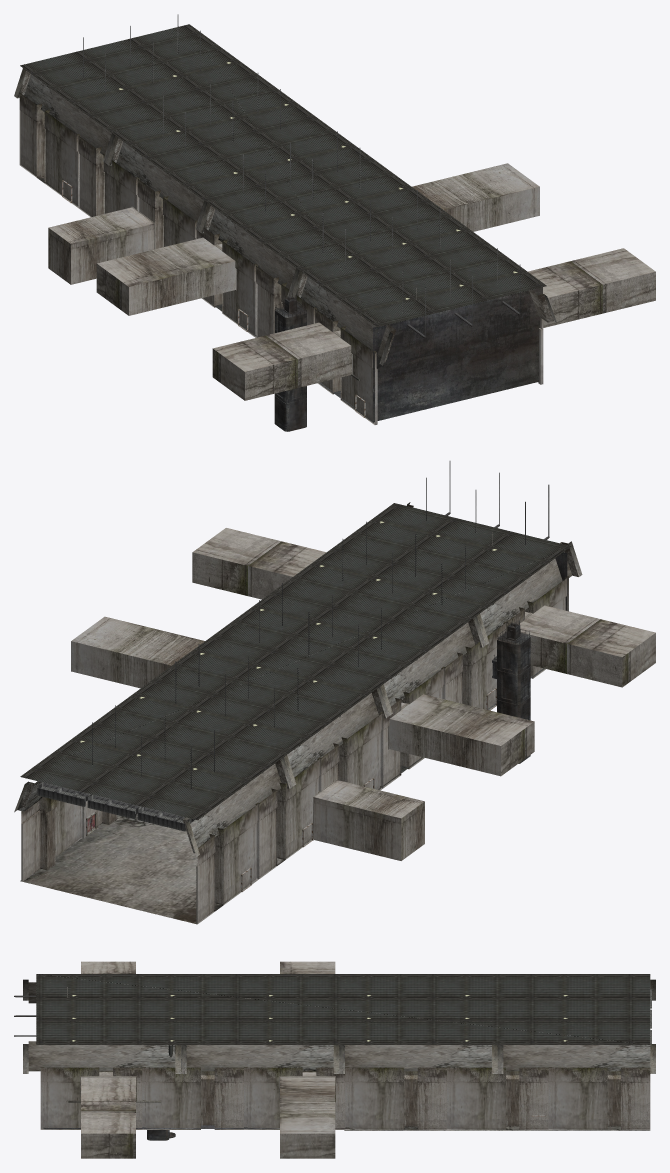
Rendered from hangar.glb.
The picture shows the model from 3 angles, top to bottom: view 1: azimuth 30°, elevation 25°; view 2: azimuth 150°, elevation 25°; view 3: azimuth 270°, elevation 25°; orthographic projection. The views are drawn at different scales.
Parts seen in each view (by area): view 1: Plane.005_Material.005_0, Plane.001_Material.002_0, Plane.014_Material.003_0, Plane.004_Material.002_0, Plane.012_Material.001_0, Cube.001_Material.002_0, factory_tube_03.001_Material.003_0, Cube.020_Material.006_0; view 2: Plane.005_Material.005_0, Plane.001_Material.002_0, Plane.004_Material.002_0, Plane.012_Material.001_0, Plane_Material.001_0, Cube.001_Material.002_0, factory_tube_03.001_Material.003_0, Plane.006_Material.006_0, Cube.020_Material.006_0; view 3: Plane.005_Material.005_0, Plane.004_Material.002_0, Plane.012_Material.001_0, Plane.001_Material.002_0, Plane_Material.001_0.
Part boxes in pixels (<box>): Plane.005_Material.005_0: <box>20,24,546,327</box>; Plane.001_Material.002_0: <box>19,93,377,424</box>; Plane.014_Material.003_0: <box>373,287,542,422</box>; Plane.004_Material.002_0: <box>412,163,655,384</box>; Plane.012_Material.001_0: <box>14,26,556,365</box>; Cube.001_Material.002_0: <box>48,207,154,284</box>; factory_tube_03.001_Material.003_0: <box>274,293,306,431</box>; Cube.020_Material.006_0: <box>83,14,520,337</box>; Plane.005_Material.005_0: <box>20,503,571,819</box>; Plane.001_Material.002_0: <box>196,576,655,924</box>; Plane.004_Material.002_0: <box>21,528,326,881</box>; Plane.012_Material.001_0: <box>14,502,582,856</box>; Plane_Material.001_0: <box>20,813,284,923</box>; Cube.001_Material.002_0: <box>314,780,424,860</box>; factory_tube_03.001_Material.003_0: <box>492,619,530,763</box>; Plane.006_Material.006_0: <box>37,558,555,831</box>; Cube.020_Material.006_0: <box>92,461,549,789</box>; Plane.005_Material.005_0: <box>36,974,650,1044</box>; Plane.004_Material.002_0: <box>40,1067,650,1158</box>; Plane.012_Material.001_0: <box>23,979,655,1073</box>; Plane.001_Material.002_0: <box>81,961,335,1058</box>; Plane_Material.001_0: <box>344,1126,650,1130</box>.
Size of the model in its own units: 26.9 by 11.66 by 42.4.
9 materials, 8 textured.
